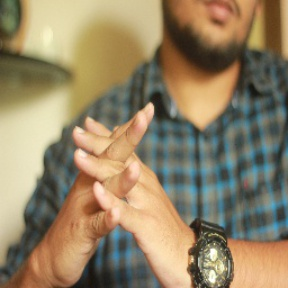W: (60, 94, 169, 252)
